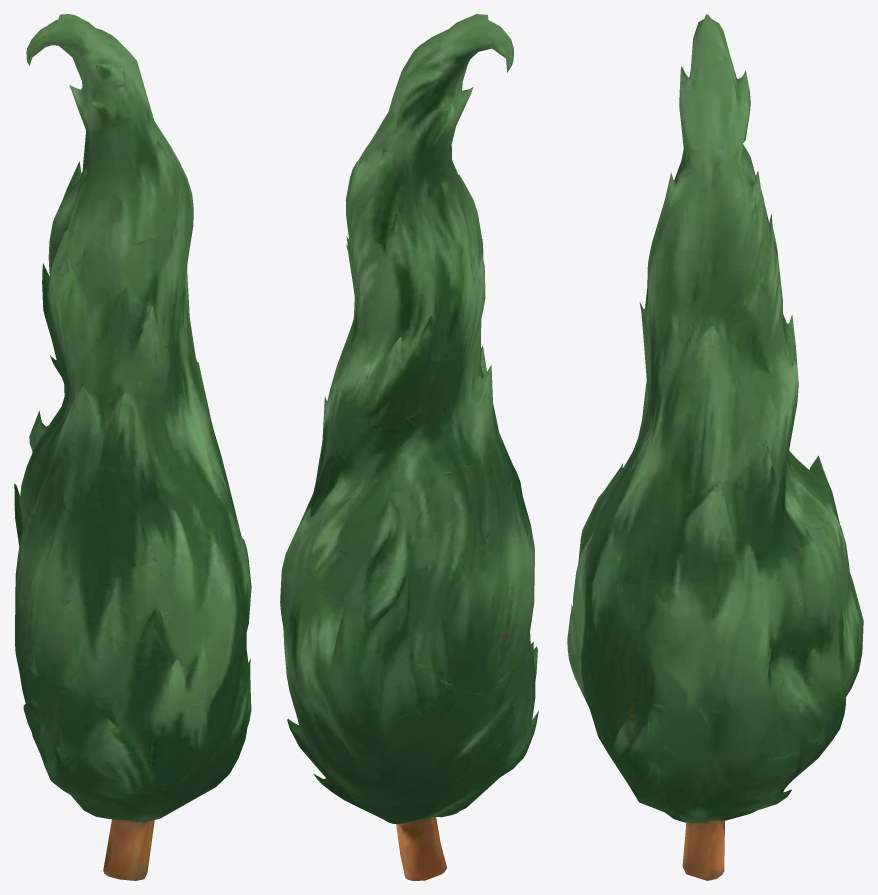
File: cypress.glb
3 views of the same model, side by side, from view 1: azimuth 30°, elevation 25°; view 2: azimuth 150°, elevation 25°; view 3: azimuth 270°, elevation 25° (orthographic). The views are drawn at different scales.
Size of the model in its own units: 0.4643 by 1.9 by 0.6145.
1 material, 1 textured.
